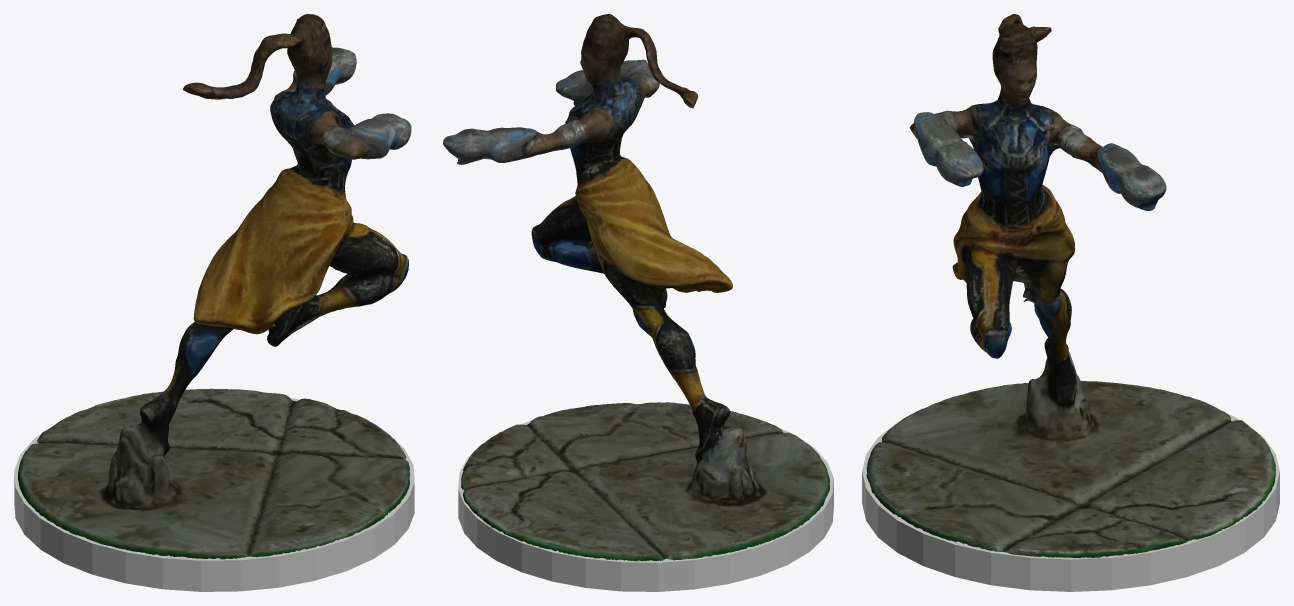
The picture shows the model from 3 angles, left to right: view 1: azimuth 30°, elevation 25°; view 2: azimuth 150°, elevation 25°; view 3: azimuth 270°, elevation 25°; orthographic projection. The views are drawn at different scales.
Visible parts, largest first — view 1: Shuri, default; view 2: Shuri, default; view 3: Shuri, default.
Part boxes in pixels (box(x1,y1,x2,y2)): Shuri: box(18, 14, 411, 559); default: box(14, 398, 414, 591); Shuri: box(443, 14, 829, 561); default: box(458, 404, 833, 591); Shuri: box(866, 14, 1275, 557); default: box(862, 408, 1279, 591).
Size of the model in its own units: 1.39 by 1.87 by 1.38.
2 materials, 1 textured.
